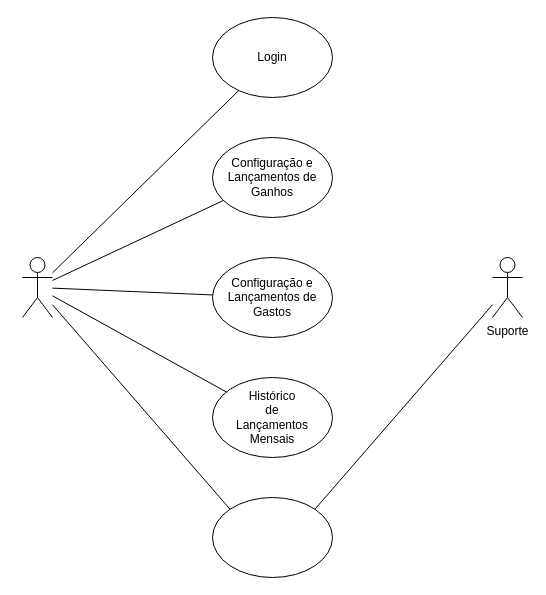
Image size: 546x595. Some labels were removed from this diagram. Each missing label, with the box of its shape:
Help Desk Remoto: (212, 496, 332, 578)
Usuário: (22, 256, 52, 318)
